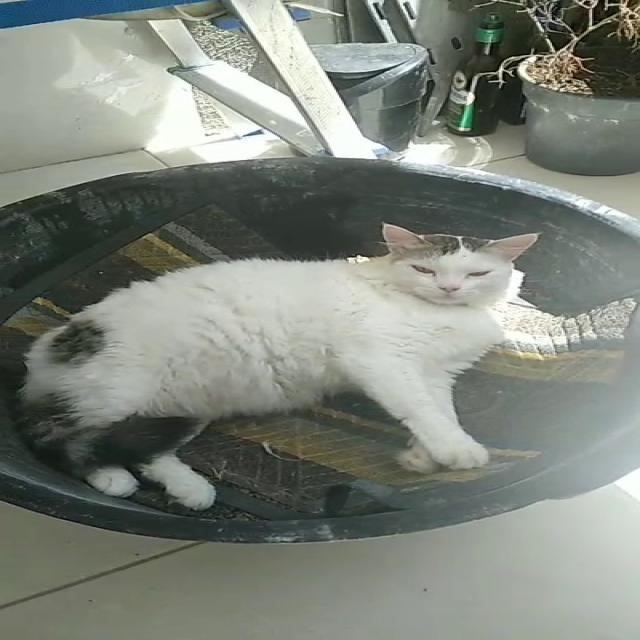Simba: (30, 182, 585, 513)
